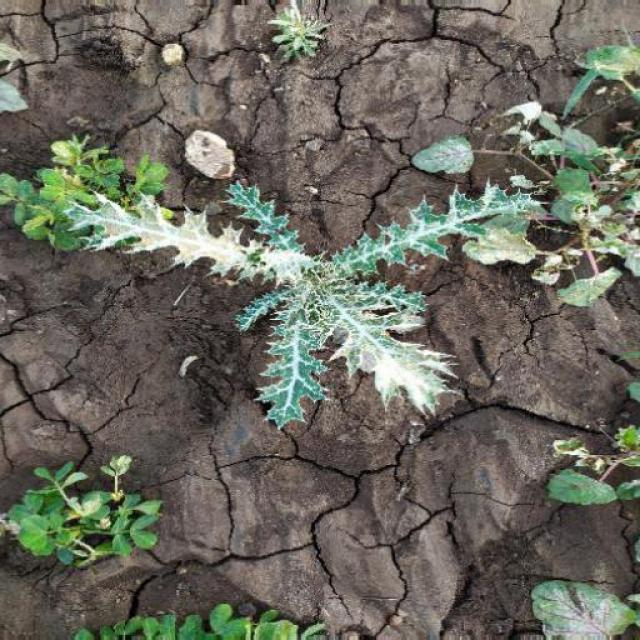weed: (71, 154, 536, 422)
